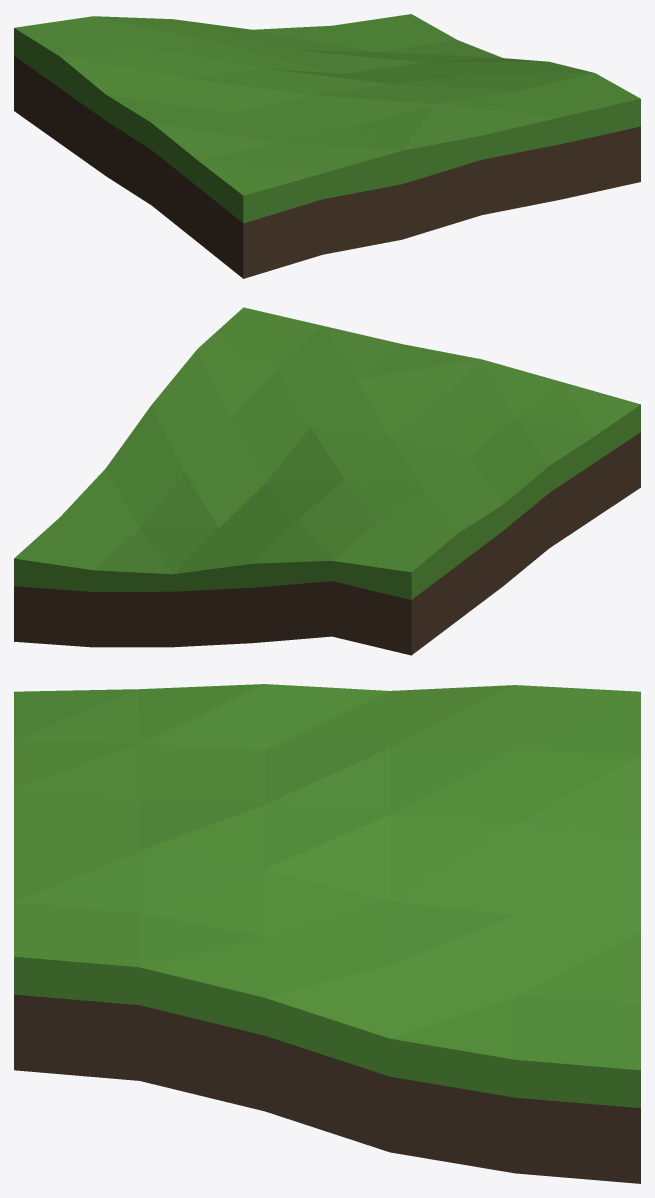
File: terrain-world-valley2.glb
3 renders of one model, top to bottom at view 1: azimuth 30°, elevation 25°; view 2: azimuth 150°, elevation 25°; view 3: azimuth 270°, elevation 25°, orthographic. The views are drawn at different scales.
Parts seen in each view (by area): view 1: terrain-world-valley2; view 2: terrain-world-valley2; view 3: terrain-world-valley2.
Boxes of the visible parts, x1=… form: terrain-world-valley2: x1=14, y1=14, x2=640, y2=278; terrain-world-valley2: x1=14, y1=307, x2=640, y2=655; terrain-world-valley2: x1=14, y1=684, x2=640, y2=1183.
Size of the model in its own units: 30 by 12.45 by 30.
Materials: 1 (1 with a texture image).
